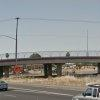Bridge: (5, 47, 96, 78)
